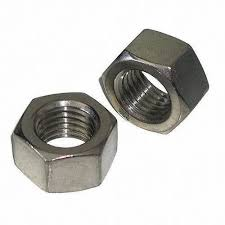Thread: (23, 94, 103, 152), (109, 66, 179, 129)
